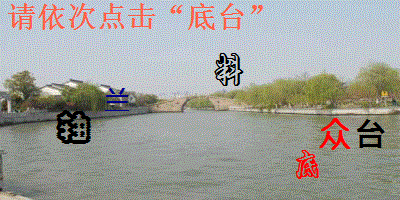text: (55, 108, 92, 146), (318, 117, 353, 151), (212, 51, 244, 88), (356, 119, 385, 150), (293, 149, 320, 180), (103, 86, 131, 114)
